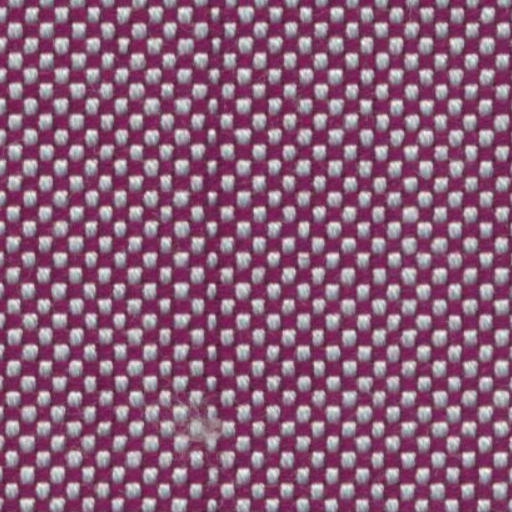TuoSha: (176, 14, 250, 503)
